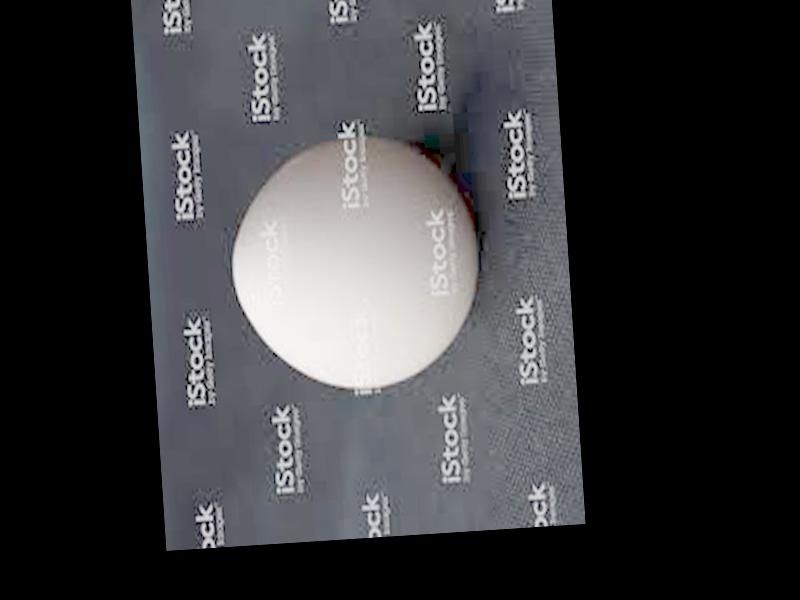Eggs: (224, 129, 486, 396)
